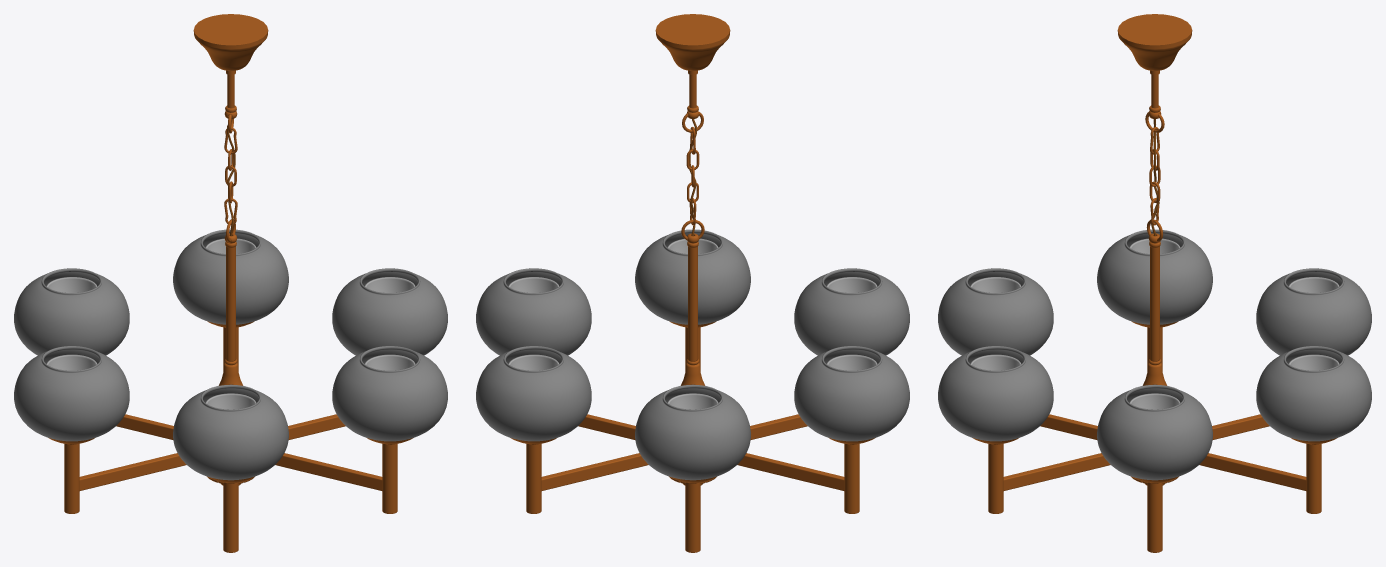
Rendered from 730063 Fiamma Lightstar.fbx.
3 views of the same model, side by side, from view 1: azimuth 30°, elevation 25°; view 2: azimuth 150°, elevation 25°; view 3: azimuth 270°, elevation 25° (orthographic).
Visible parts, largest first — view 1: 730063_Fiamma_Lightstar; view 2: 730063_Fiamma_Lightstar; view 3: 730063_Fiamma_Lightstar.
Part boxes in pixels (<box>): 730063_Fiamma_Lightstar: <box>14,14,447,552</box>; 730063_Fiamma_Lightstar: <box>476,14,909,552</box>; 730063_Fiamma_Lightstar: <box>938,14,1371,552</box>.
Bounding box in the file's own units: 752 × 777 × 675.
